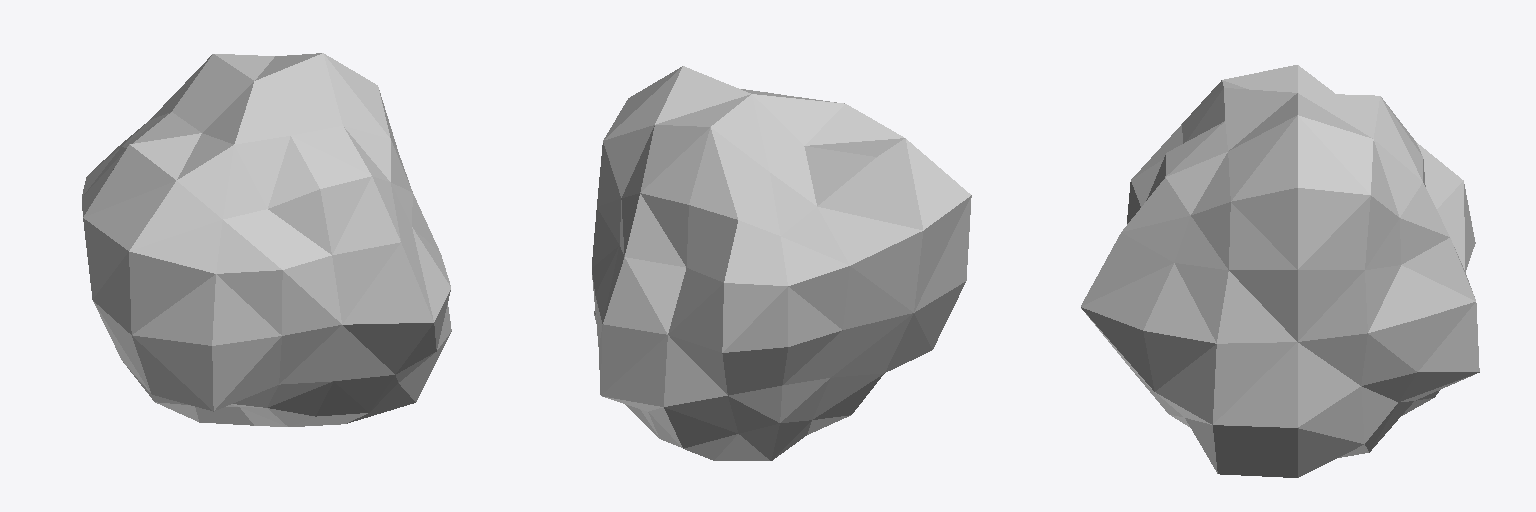
File: asteroid_light.obj
3 views of the same model, side by side, from view 1: azimuth 30°, elevation 25°; view 2: azimuth 150°, elevation 25°; view 3: azimuth 270°, elevation 25° (orthographic).
Parts seen in each view (by area): view 1: Cube; view 2: Cube; view 3: Cube.
Part boxes in pixels (x1,y1,x2,y2): Cube: (82, 53, 451, 426); Cube: (592, 66, 971, 460); Cube: (1081, 65, 1479, 477).
Size of the model in its own units: 0.9404 by 0.9675 by 0.984.